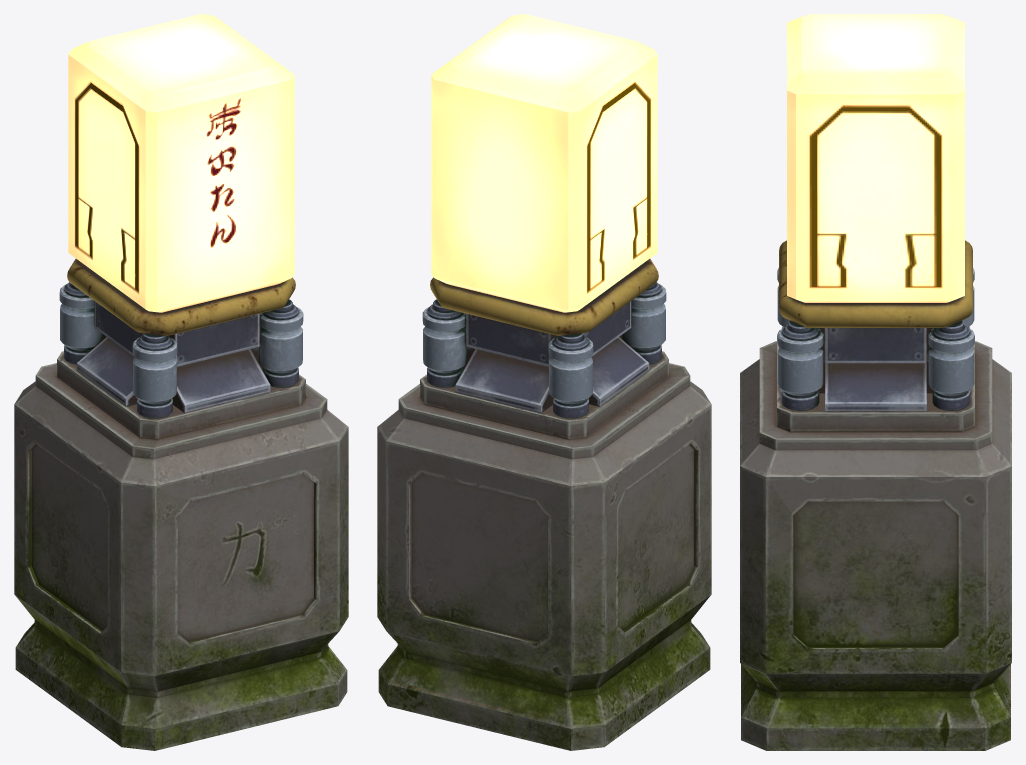
3 views of the same model, side by side, from view 1: azimuth 30°, elevation 25°; view 2: azimuth 150°, elevation 25°; view 3: azimuth 270°, elevation 25° (orthographic). The views are drawn at different scales.
Visible parts, largest first — view 1: Stone_low, Top_low, Middle_low, Cylinders_low, Pipe_low; view 2: Stone_low, Top_low, Middle_low, Cylinders_low, Pipe_low; view 3: Stone_low, Top_low, Middle_low, Cylinders_low, Pipe_low.
Boxes of the visible parts, x1,y1,x2,y2 form: Stone_low: [14, 351, 348, 750]; Top_low: [68, 14, 294, 312]; Middle_low: [76, 301, 270, 413]; Cylinders_low: [59, 282, 303, 418]; Pipe_low: [67, 259, 295, 335]; Stone_low: [377, 351, 711, 750]; Top_low: [431, 14, 657, 312]; Middle_low: [455, 301, 649, 413]; Cylinders_low: [422, 282, 666, 418]; Pipe_low: [430, 259, 658, 335]; Stone_low: [740, 335, 1011, 750]; Top_low: [787, 14, 964, 302]; Middle_low: [780, 328, 971, 411]; Cylinders_low: [777, 268, 974, 410]; Pipe_low: [779, 240, 972, 327].
Size of the model in its own units: 532 by 1401 by 532.
1 material, 1 textured.
